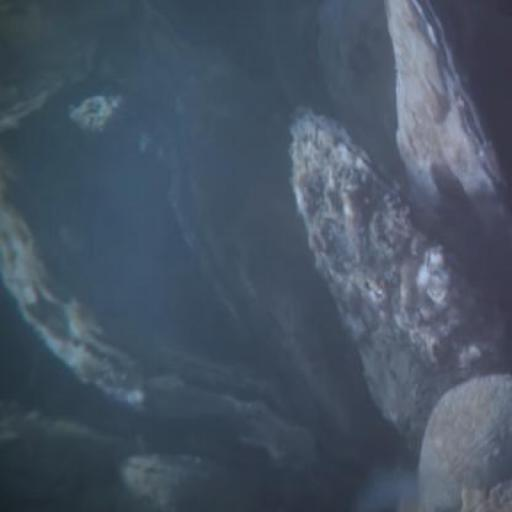Oyster-Closed: (292, 109, 493, 447)
Oyster-Open: (387, 1, 512, 265)
